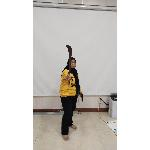Golok: (65, 44, 74, 86)
Pistol: (76, 92, 86, 102)
